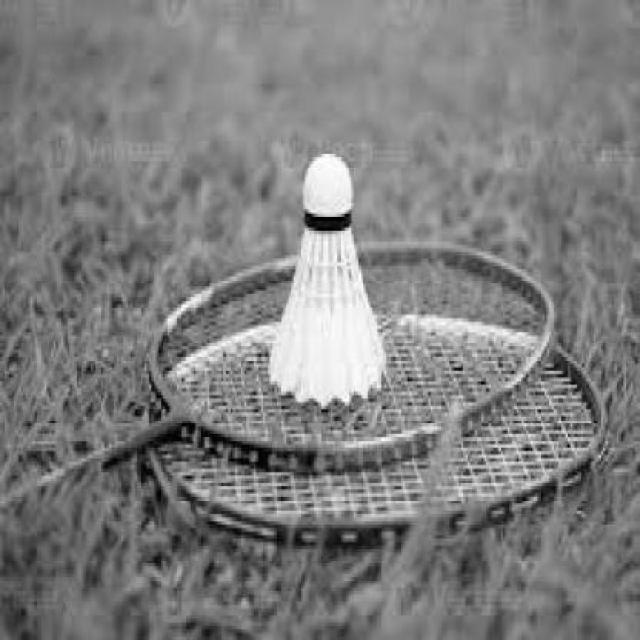Shuttlecock: (265, 152, 386, 408)
